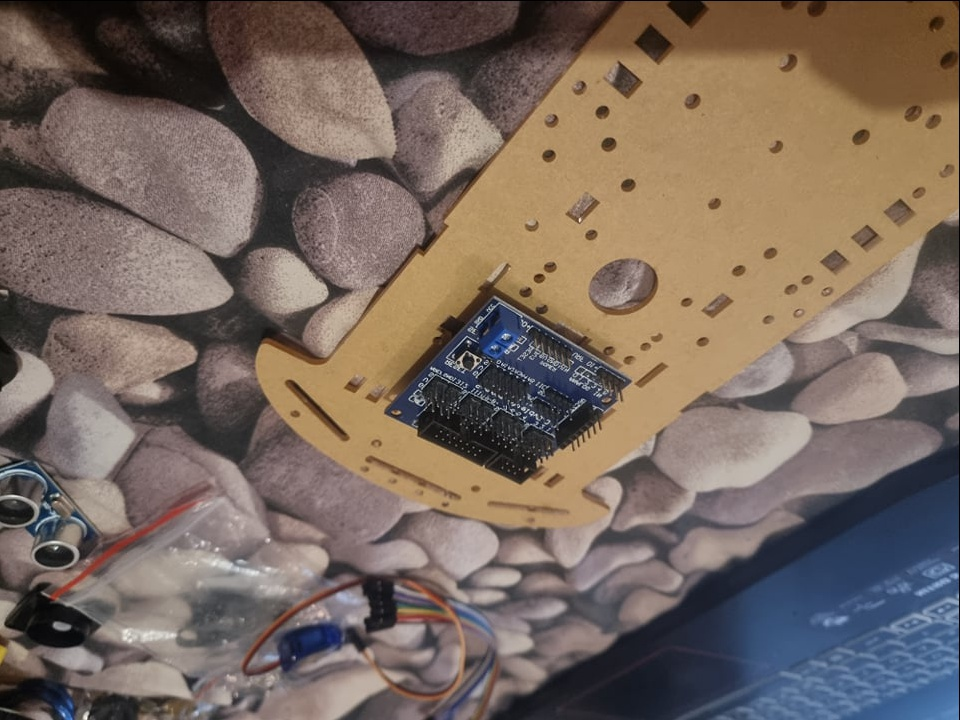5V EXPANSION: (386, 293, 633, 487)
SENSOR: (1, 456, 99, 566)
